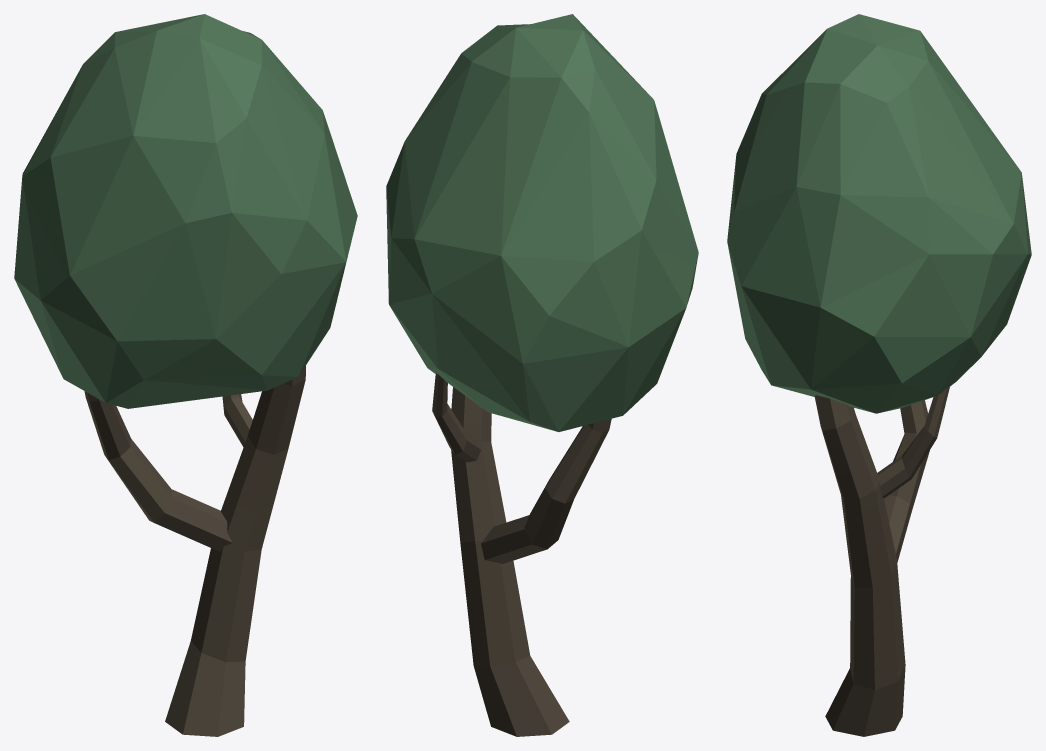
The model's file is Tree10.glb.
3 renders of one model, left to right at view 1: azimuth 30°, elevation 25°; view 2: azimuth 150°, elevation 25°; view 3: azimuth 270°, elevation 25°, orthographic. The views are drawn at different scales.
Parts seen in each view (by area): view 1: Tree; view 2: Tree; view 3: Tree.
Part boxes in pixels (box(x1,y1,x2,y2)): Tree: box(14, 14, 357, 736); Tree: box(386, 14, 698, 736); Tree: box(727, 14, 1031, 736).
Bounding box in the file's own units: 1.68 × 3.82 × 1.55.
1 material, 1 textured.
